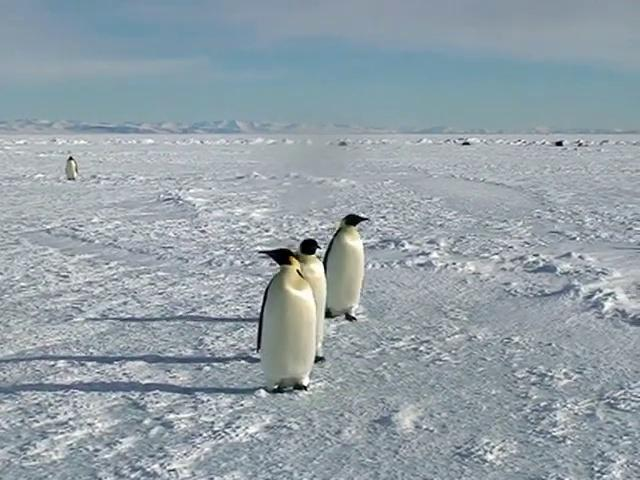animal: (326, 215, 370, 322)
